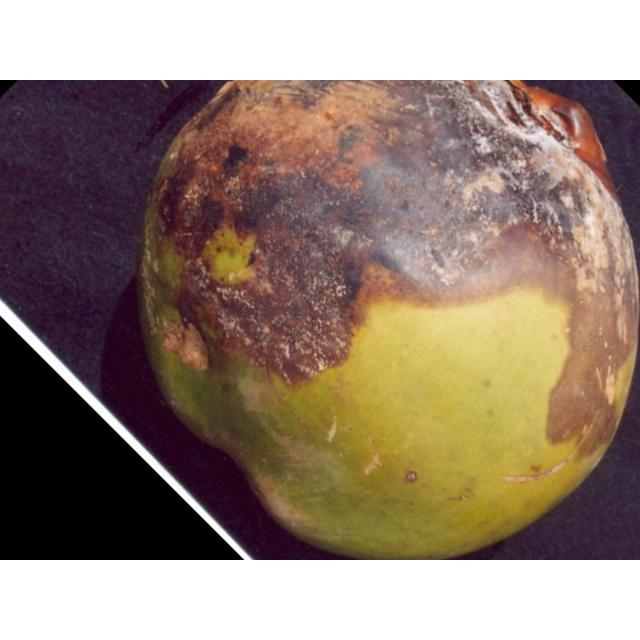damaged: (133, 80, 639, 559)
